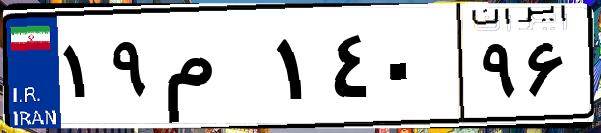0: (385, 28, 445, 110)
1: (270, 28, 330, 110), (57, 26, 110, 100)
4: (330, 28, 385, 110)
6: (525, 38, 570, 115)
9: (475, 38, 525, 113), (110, 28, 158, 98)
م: (158, 20, 270, 120)
